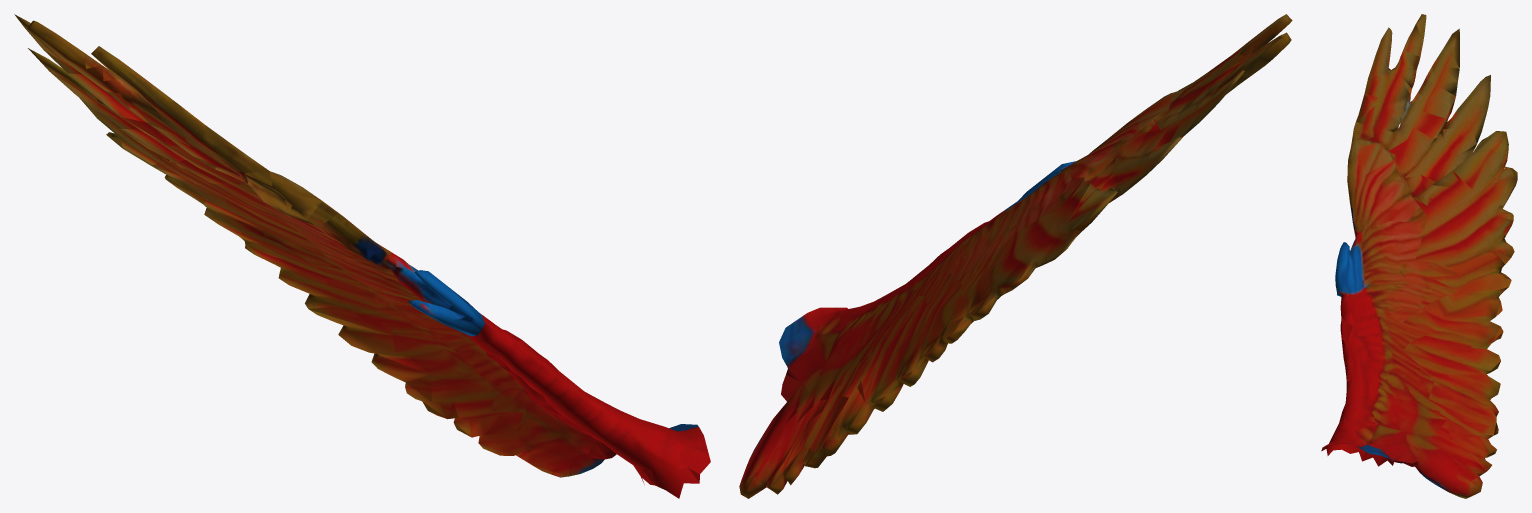
Rendered from alaDerAve.obj.
3 views of the same model, side by side, from view 1: azimuth 30°, elevation 25°; view 2: azimuth 150°, elevation 25°; view 3: azimuth 270°, elevation 25° (orthographic). The views are drawn at different scales.
Visible parts, largest first — view 1: alaDerAve; view 2: alaDerAve; view 3: alaDerAve.
Boxes of the visible parts, x1,y1,x2,y2 form: alaDerAve: (14,14,710,498); alaDerAve: (739,14,1292,498); alaDerAve: (1321,14,1517,498).
Bounding box in the file's own units: 0.4688 × 0.4522 × 0.2395.
1 material, 1 textured.
